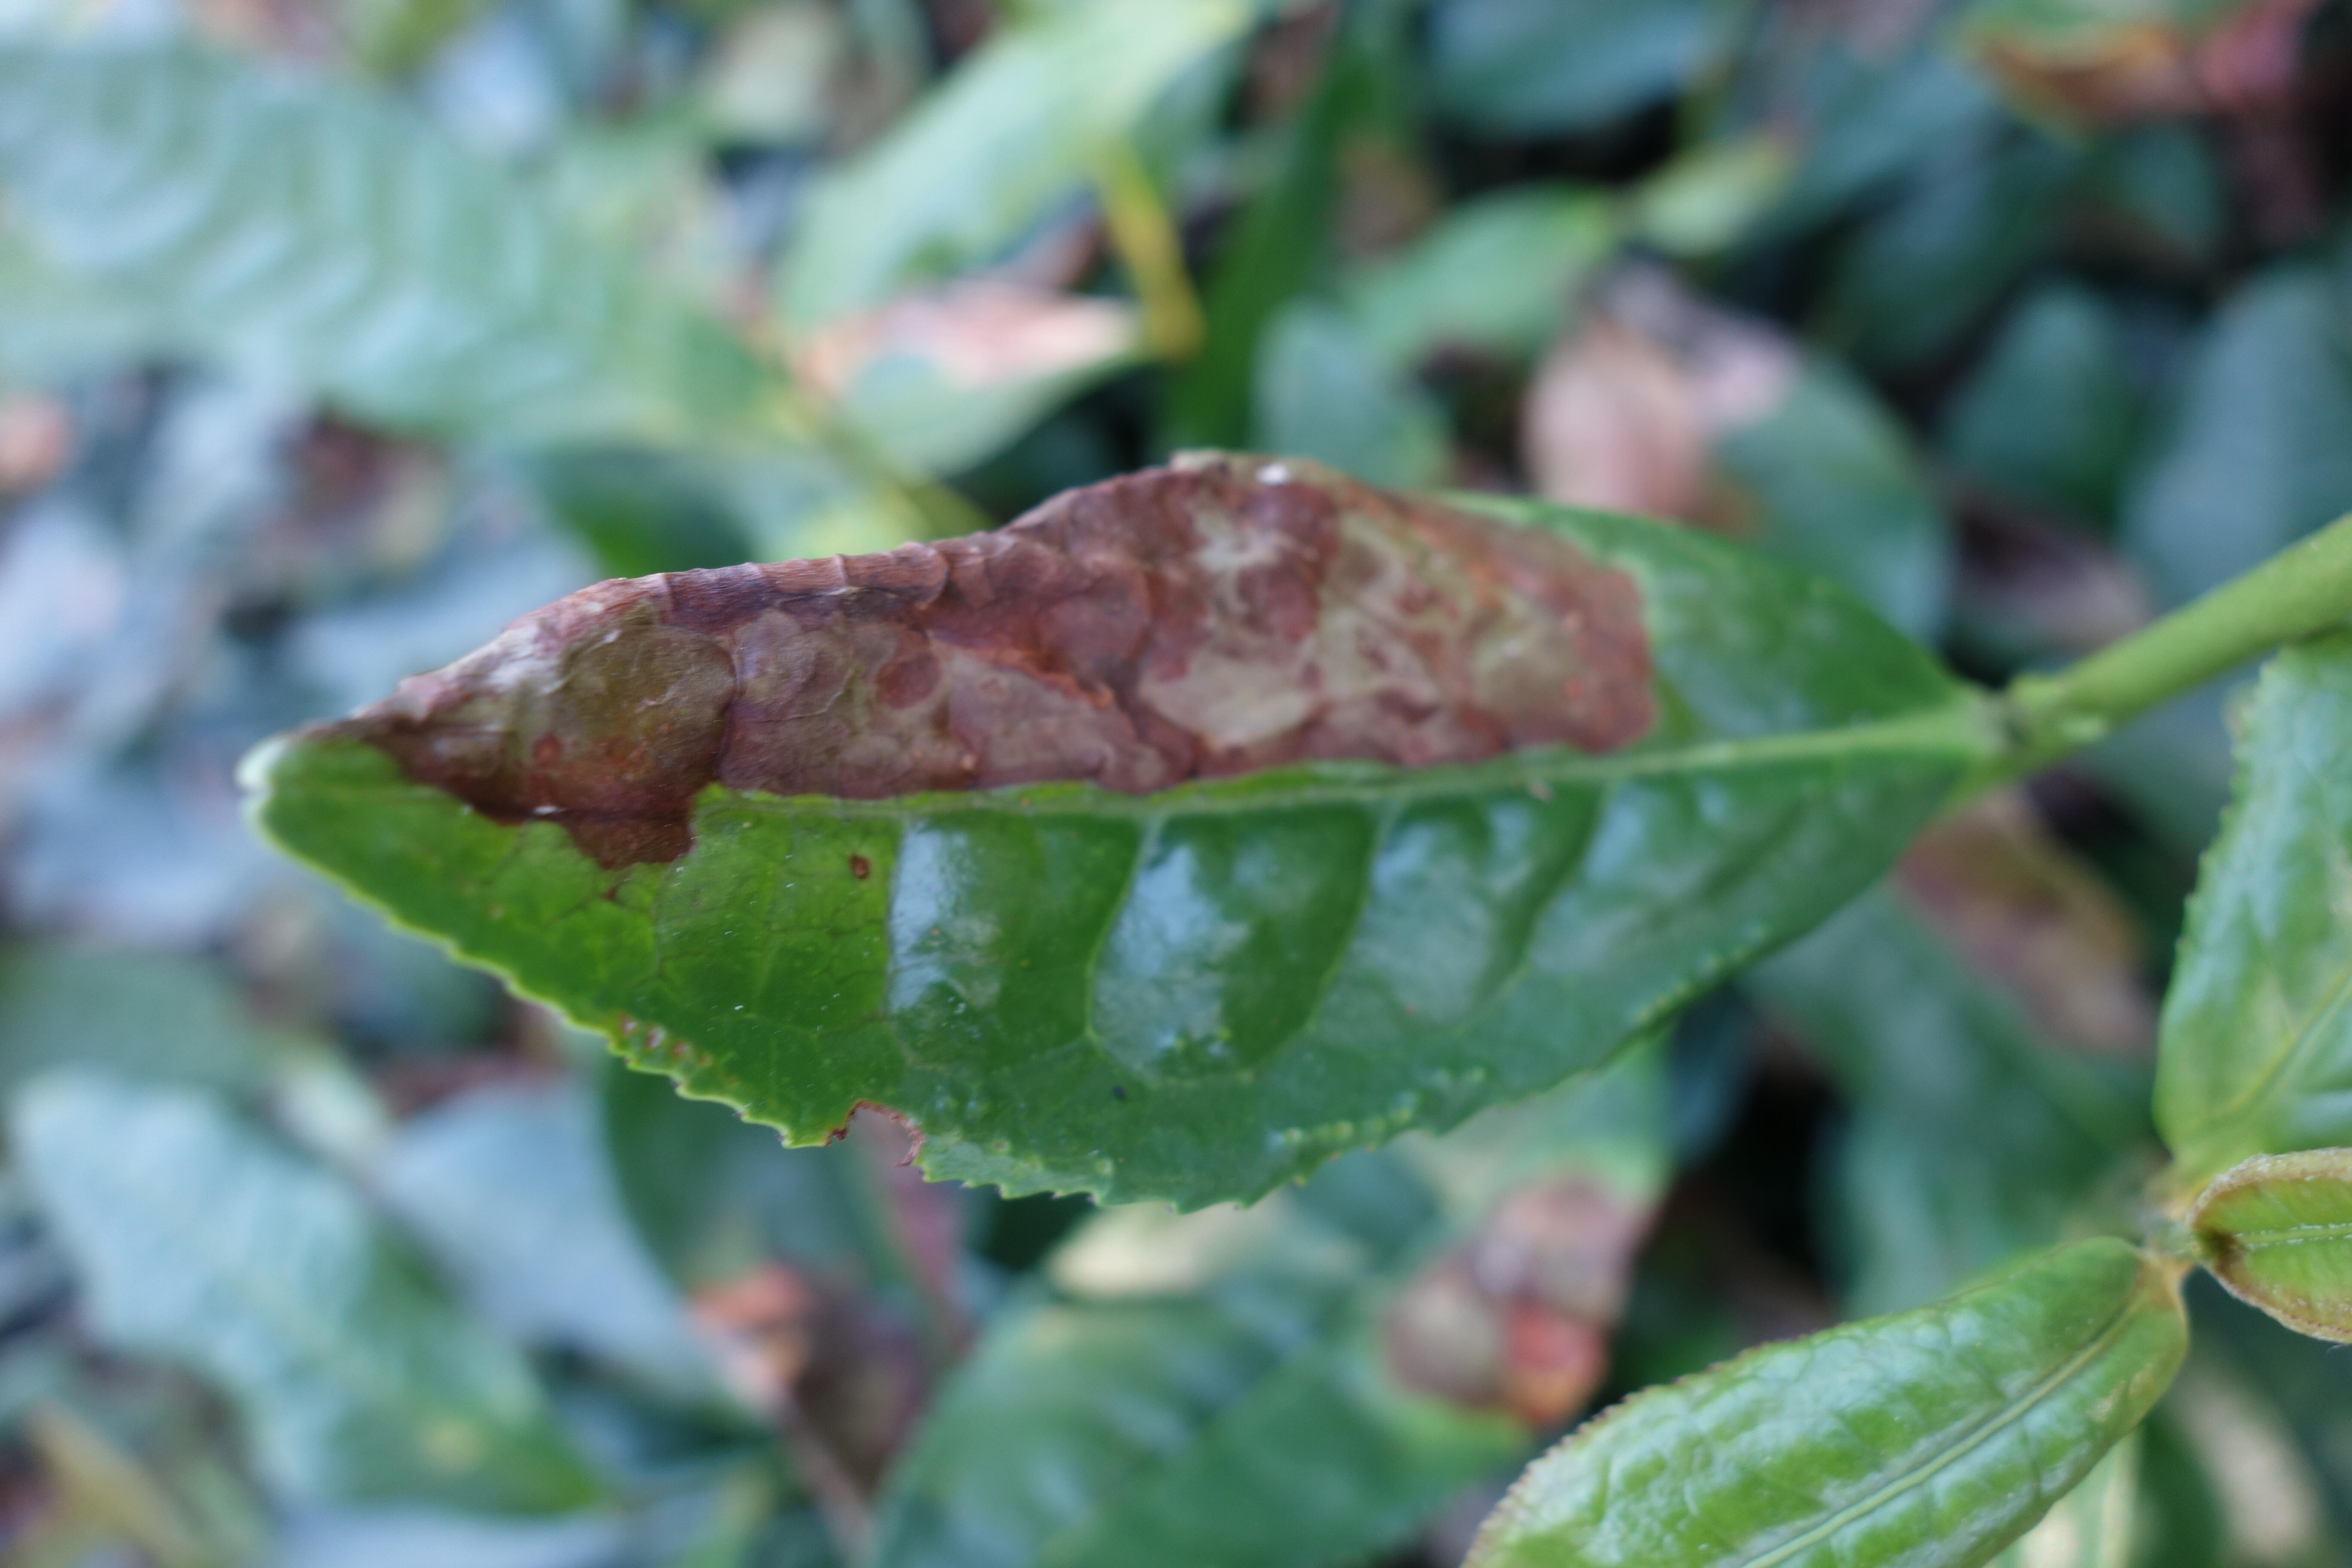tanju_high: (234, 450, 2012, 1214)
tanju_low: (2187, 1148, 2352, 1340)
